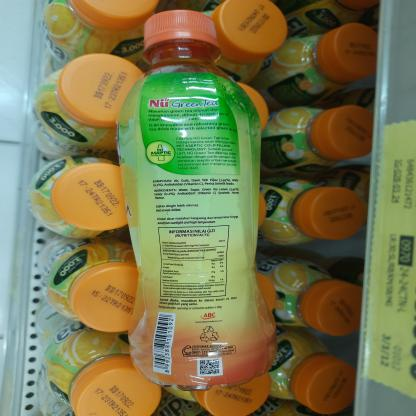bottle: (113, 8, 278, 390)
